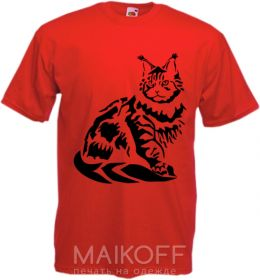cat: (131, 51, 190, 104)
